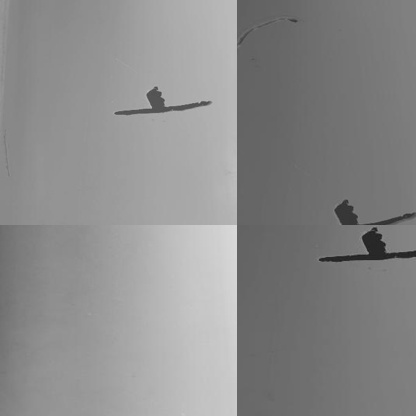fengxi: (319, 229, 412, 264), (365, 205, 411, 224)
kongdong: (110, 82, 210, 117), (331, 201, 358, 222)
